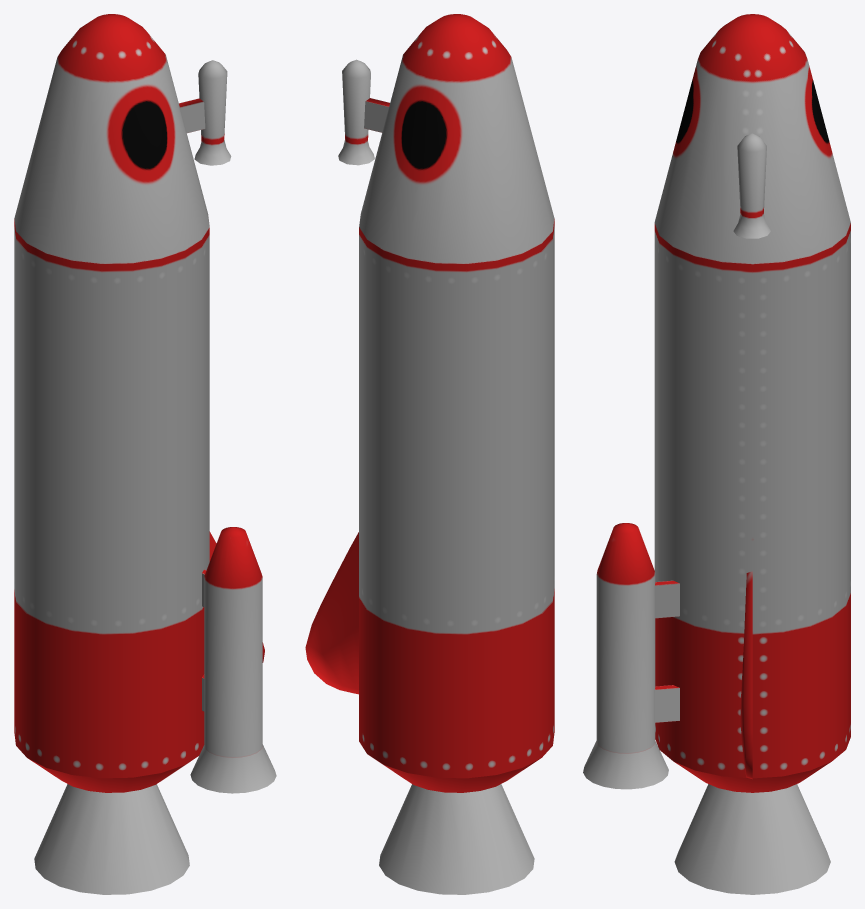
Rendered from rocket.fbx.
The picture shows the model from 3 angles, left to right: view 1: azimuth 30°, elevation 25°; view 2: azimuth 150°, elevation 25°; view 3: azimuth 270°, elevation 25°; orthographic projection.
Visible parts, largest first — view 1: Circle, Circle.003, Circle.001, Circle.004; view 2: Circle, Circle.003, Circle.002, Circle.004; view 3: Circle, Circle.003, Circle.001, Circle.004, Circle.002.
Boxes of the visible parts, left/top/right/bottom form: Circle: left=14, top=219, right=209, bottom=894; Circle.003: left=14, top=14, right=209, bottom=263; Circle.001: left=190, top=527, right=276, bottom=793; Circle.004: left=179, top=60, right=231, bottom=165; Circle: left=359, top=219, right=554, bottom=894; Circle.003: left=359, top=14, right=554, bottom=263; Circle.002: left=305, top=532, right=358, bottom=694; Circle.004: left=338, top=59, right=389, bottom=165; Circle: left=654, top=223, right=850, bottom=894; Circle.003: left=654, top=14, right=850, bottom=264; Circle.001: left=583, top=523, right=679, bottom=789; Circle.004: left=733, top=133, right=770, bottom=238; Circle.002: left=740, top=571, right=752, bottom=779.
Bounding box in the file's own units: 127 × 435 × 125.
